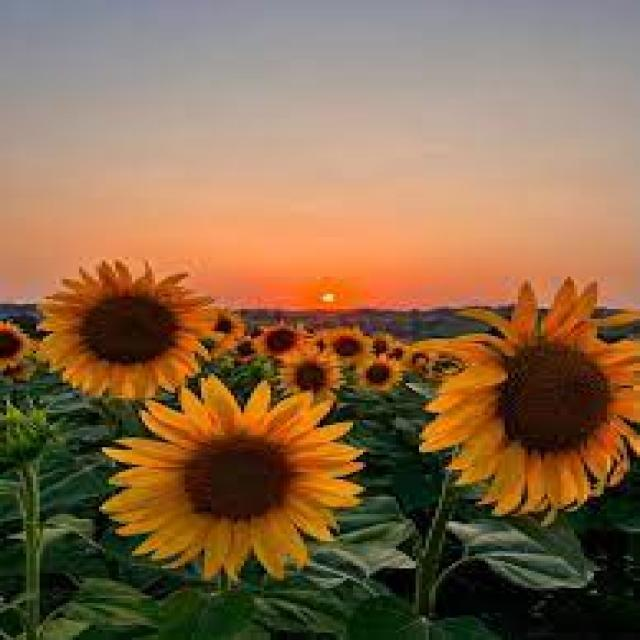sunflower: (412, 274, 640, 525), (96, 373, 367, 583), (36, 257, 211, 398), (277, 348, 343, 398), (250, 324, 310, 361), (324, 326, 372, 366), (352, 354, 402, 391), (194, 304, 244, 341), (0, 316, 26, 373), (366, 328, 403, 358), (387, 339, 412, 366), (204, 336, 232, 360), (306, 330, 336, 352), (405, 344, 429, 370), (234, 337, 258, 357), (4, 358, 26, 378)
